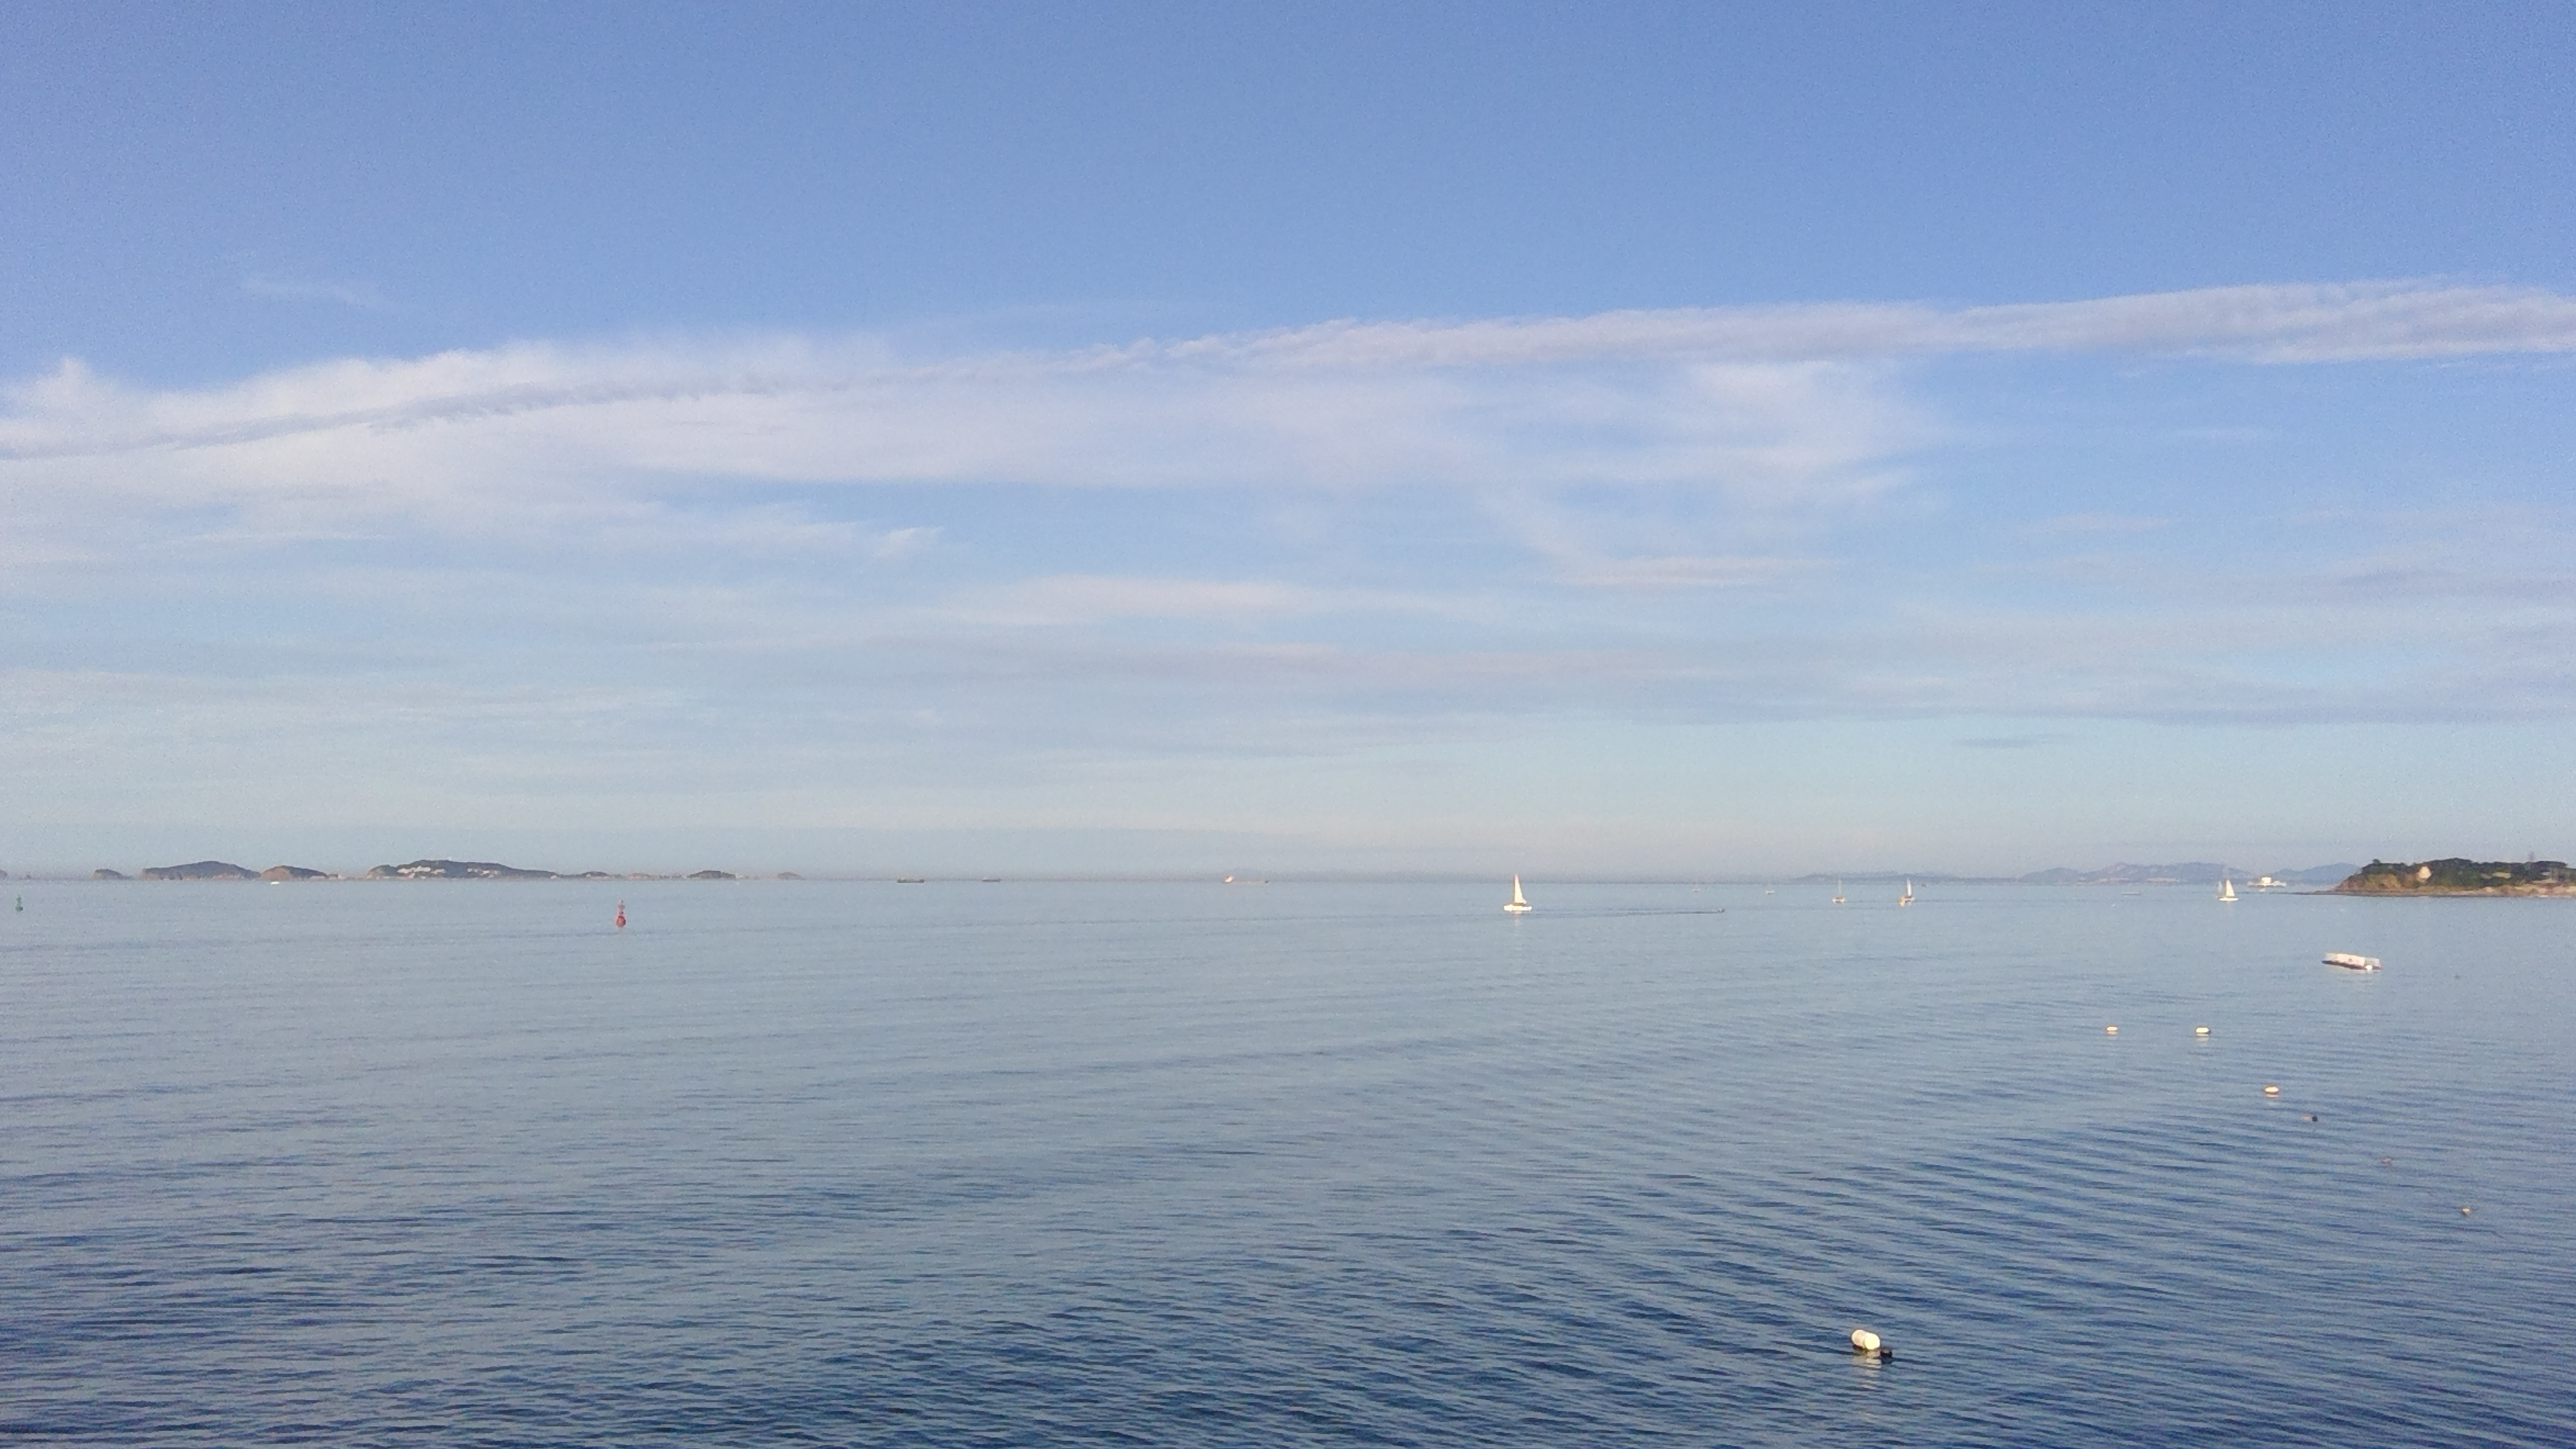buoy: (1491, 870, 1546, 920)
rock: (2327, 847, 2576, 904), (88, 849, 338, 888), (361, 847, 575, 885)
rubbish: (1831, 1311, 1907, 1368), (2305, 943, 2394, 984)
